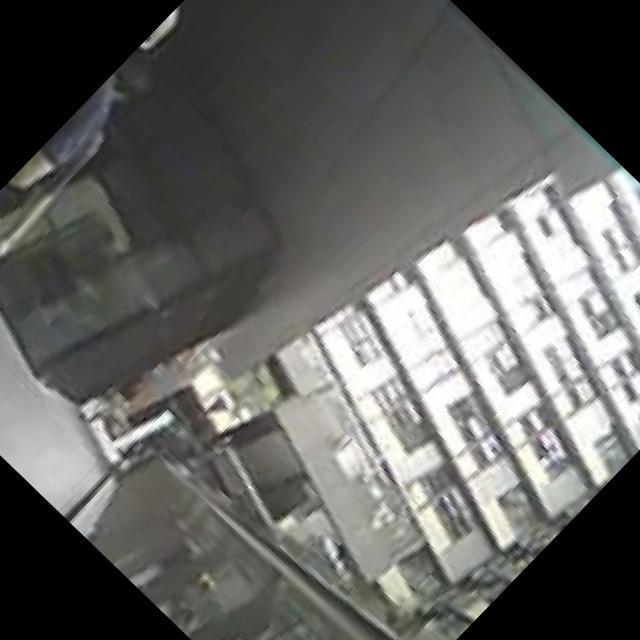person: (0, 5, 196, 231), (0, 59, 170, 271)
